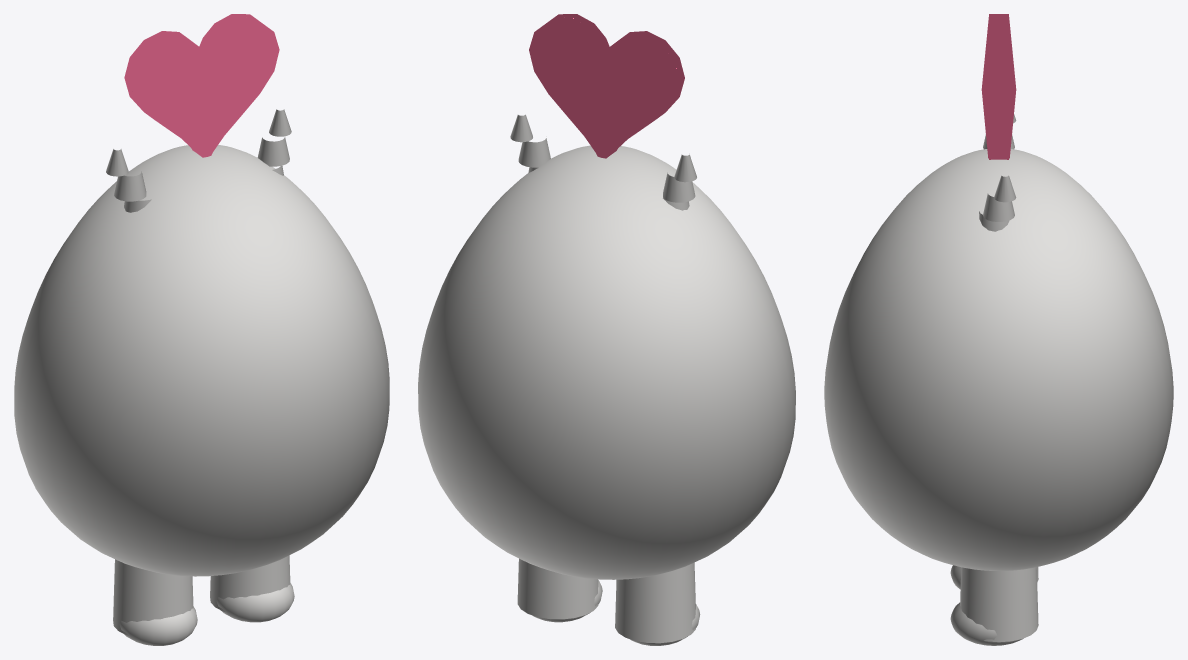
File: yumurta_maskot.glb
3 views of the same model, side by side, from view 1: azimuth 30°, elevation 25°; view 2: azimuth 150°, elevation 25°; view 3: azimuth 270°, elevation 25° (orthographic). The views are drawn at different scales.
Parts seen in each view (by area): view 1: Body_White, Heart_Accessory; view 2: Body_White, Heart_Accessory; view 3: Body_White, Heart_Accessory.
Part boxes in pixels (box(x1,y1,x2,y2)): Body_White: box(14, 109, 389, 645); Heart_Accessory: box(124, 14, 279, 157); Body_White: box(418, 114, 795, 645); Heart_Accessory: box(529, 14, 684, 158); Body_White: box(824, 114, 1173, 645); Heart_Accessory: box(981, 14, 1016, 159).
Bounding box in the file's own units: 1.5 × 2.6 × 1.41.
